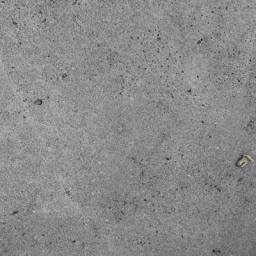FOD: (235, 152, 256, 173)
